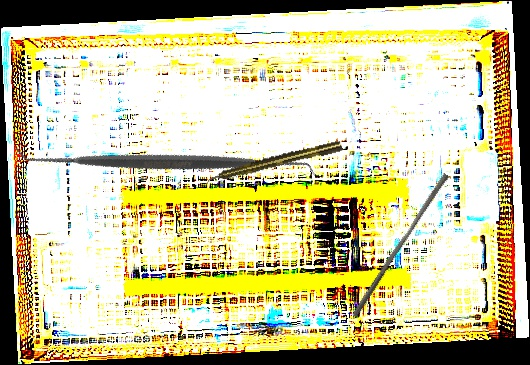Handpiece: (203, 139, 344, 186)
Pusher: (351, 169, 450, 322)
Spatula Surgical: (13, 10, 317, 313)
